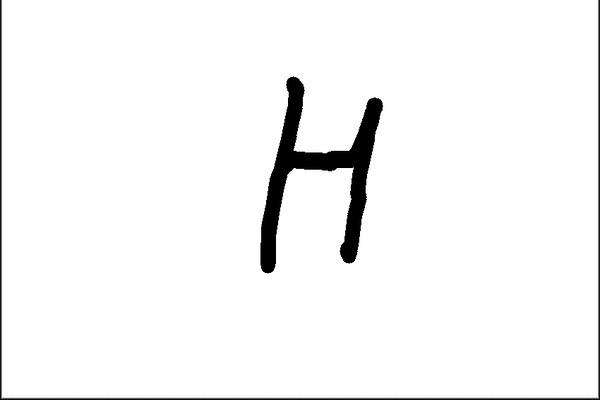H: (252, 70, 387, 277)
